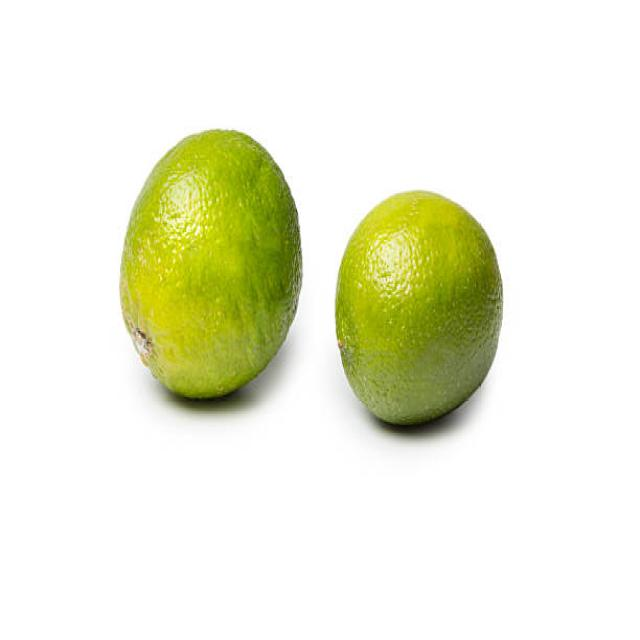Unripe: (117, 126, 302, 403), (334, 189, 504, 428)
